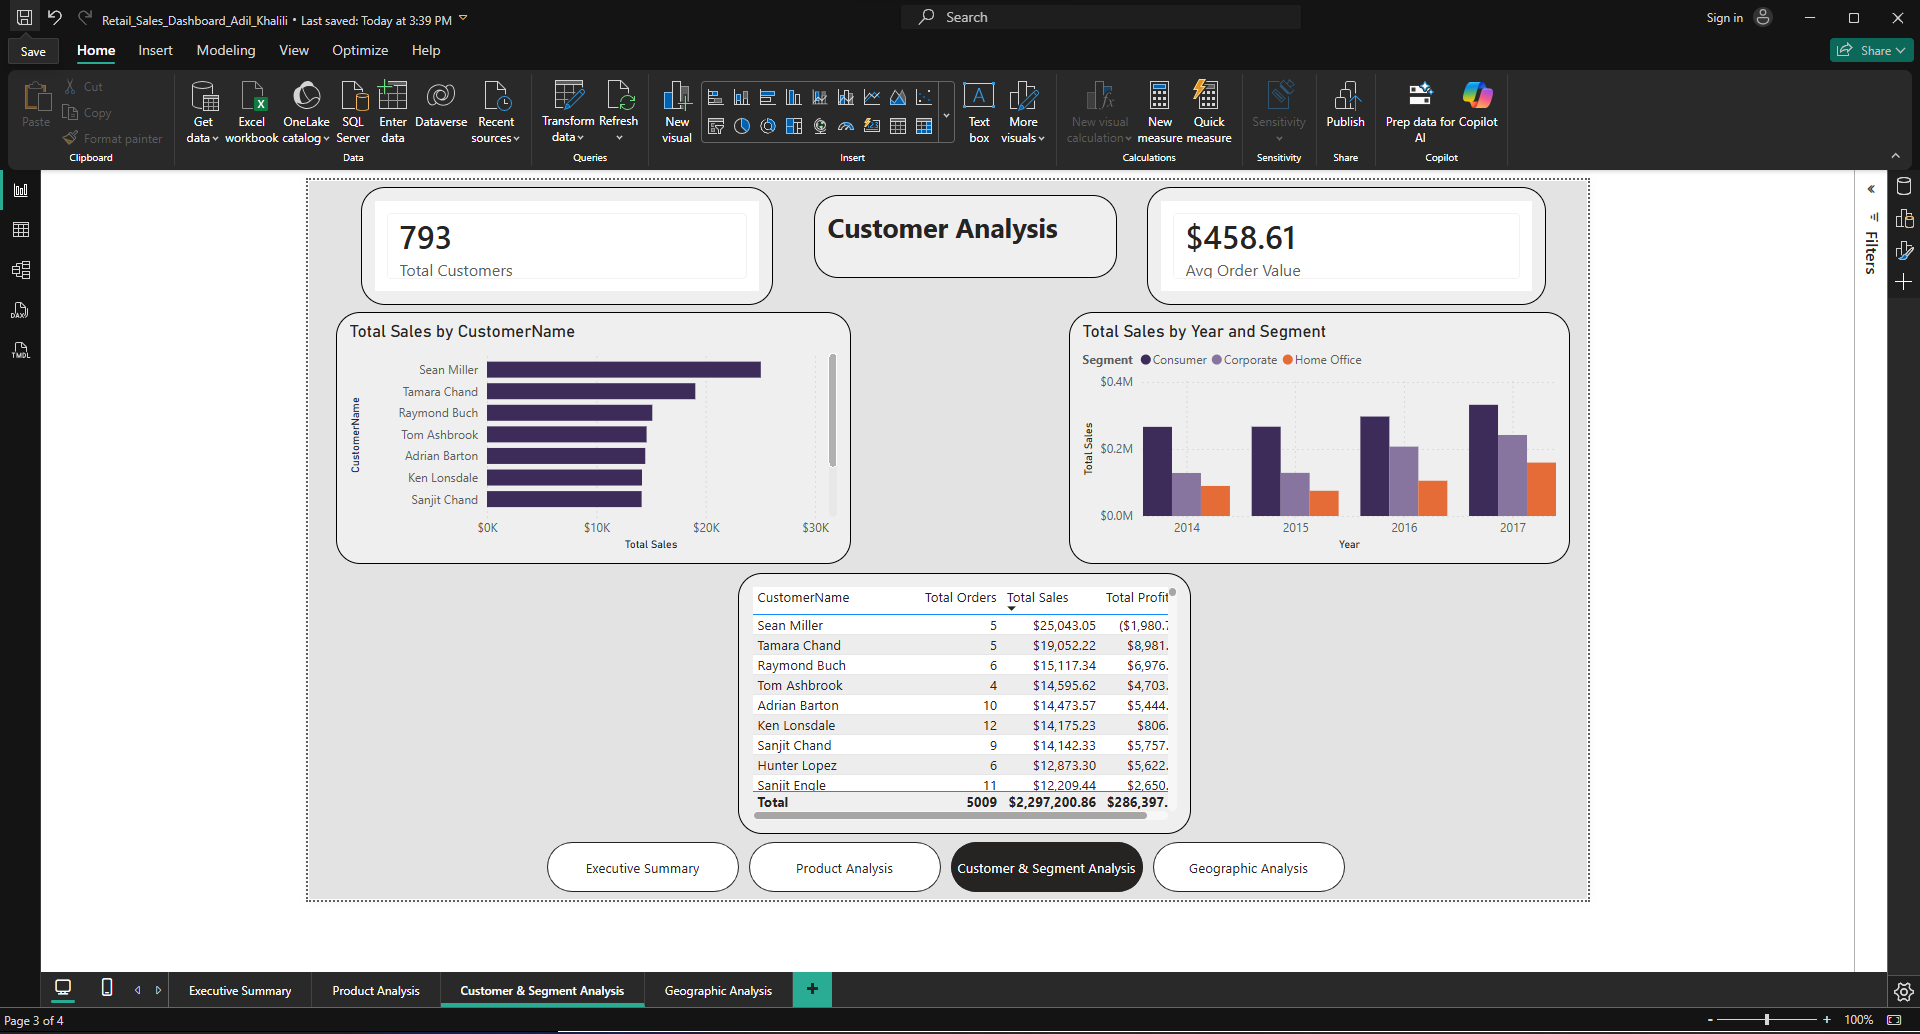

What the dashboard file says about the page in this screenshot:
{"tool":"powerbi","page":{"name":"Customer & Segment Analysis","canvas":[1280,720],"ordinal":2},"visuals":[{"type":"clusteredBarChart","fields":{"Category":["Dim_Customer.CustomerName"],"Y":["_Measures.Total Sales"]},"box":[27.6,132.4,514.9,252],"z":0},{"type":"clusteredColumnChart","fields":{"Category":["Dim_Date.Year"],"Series":["Dim_Customer.Segment"],"Y":["_Measures.Total Sales"]},"box":[761.4,132.4,500.2,252],"z":1},{"type":"tableEx","fields":{"Values":["Dim_Customer.CustomerName","_Measures.Total Orders","_Measures.Total Sales","_Measures.Total Profit"]},"box":[429.6,392.6,453.7,261.1],"z":4},{"type":"textbox","box":[505.6,14.8,303.7,83.3],"z":5},{"type":"cardVisual","fields":{"Data":["_Measures.Avg Order Value"]},"box":[838.6,7.4,399.1,117.7],"z":6},{"type":"cardVisual","fields":{"Data":["_Measures.Total Customers"]},"box":[53.3,7.4,412,117.7],"z":7},{"type":"pageNavigator","box":[239.3,662.1,800.3,49.9],"z":8}]}

Visuals, with their boxes on the page's 1280x720 design canvas (x1, y1, x2, y2). These are canvas units, not pixel positions in the 1920x1034 screenshot, which may show the page scaled, cropped or inside an application window:
clusteredBarChart - Dim_Customer.CustomerName x _Measures.Total Sales: {"x1": 28, "y1": 132, "x2": 542, "y2": 384}
clusteredColumnChart - Dim_Date.Year x Dim_Customer.Segment: {"x1": 761, "y1": 132, "x2": 1262, "y2": 384}
tableEx - Dim_Customer.CustomerName x _Measures.Total Orders: {"x1": 430, "y1": 393, "x2": 883, "y2": 654}
textbox: {"x1": 506, "y1": 15, "x2": 809, "y2": 98}
cardVisual - _Measures.Avg Order Value: {"x1": 839, "y1": 7, "x2": 1238, "y2": 125}
cardVisual - _Measures.Total Customers: {"x1": 53, "y1": 7, "x2": 465, "y2": 125}
pageNavigator: {"x1": 239, "y1": 662, "x2": 1040, "y2": 712}
